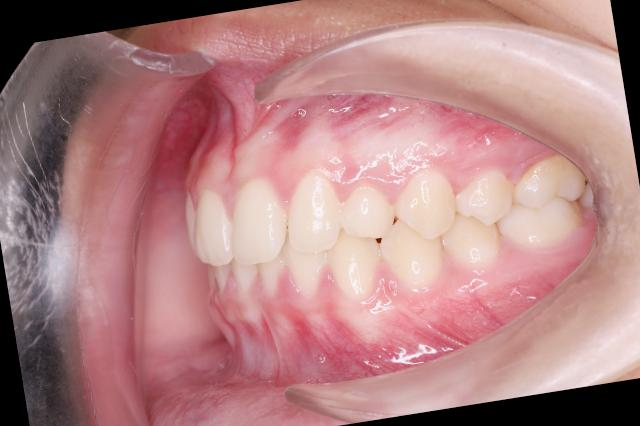canine class II 1/4: (318, 168, 452, 310)
molar class I: (485, 144, 601, 260)
